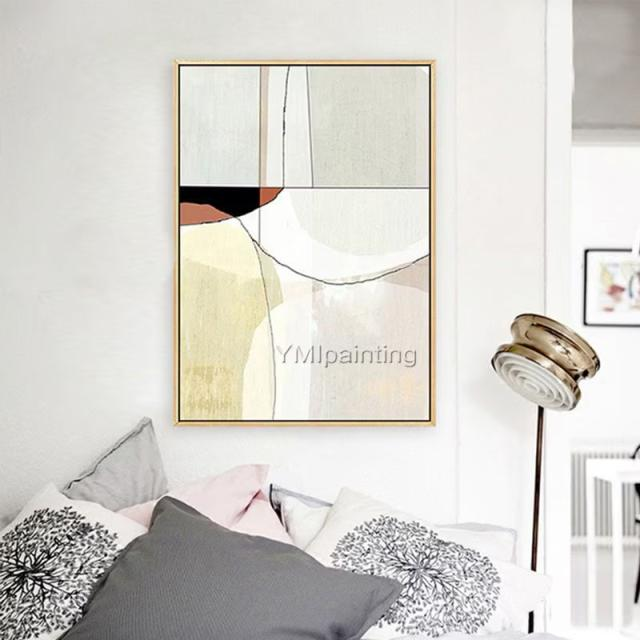painting: (174, 57, 435, 426)
